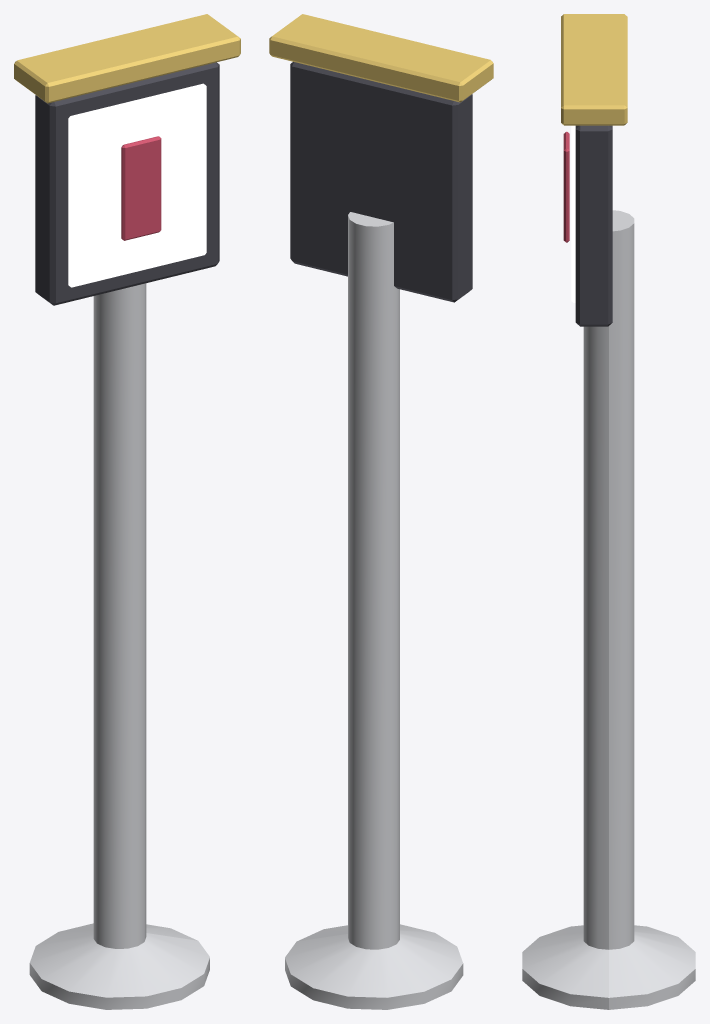
Rendered from cinema-multiplex-and-foyer-row-letter-sign-34c34d2e__34658.glb.
The picture shows the model from 3 angles, left to right: view 1: azimuth 30°, elevation 25°; view 2: azimuth 150°, elevation 25°; view 3: azimuth 270°, elevation 25°; orthographic projection.
Visible parts, largest first — view 1: row-letter-sign; view 2: row-letter-sign; view 3: row-letter-sign.
Boxes of the visible parts, left/top/right/bottom form: row-letter-sign: left=14, top=14, right=240, bottom=1009; row-letter-sign: left=269, top=14, right=493, bottom=1009; row-letter-sign: left=522, top=14, right=695, bottom=1009.
Bounding box in the file's own units: 0.3 × 1.36 × 0.2339.
